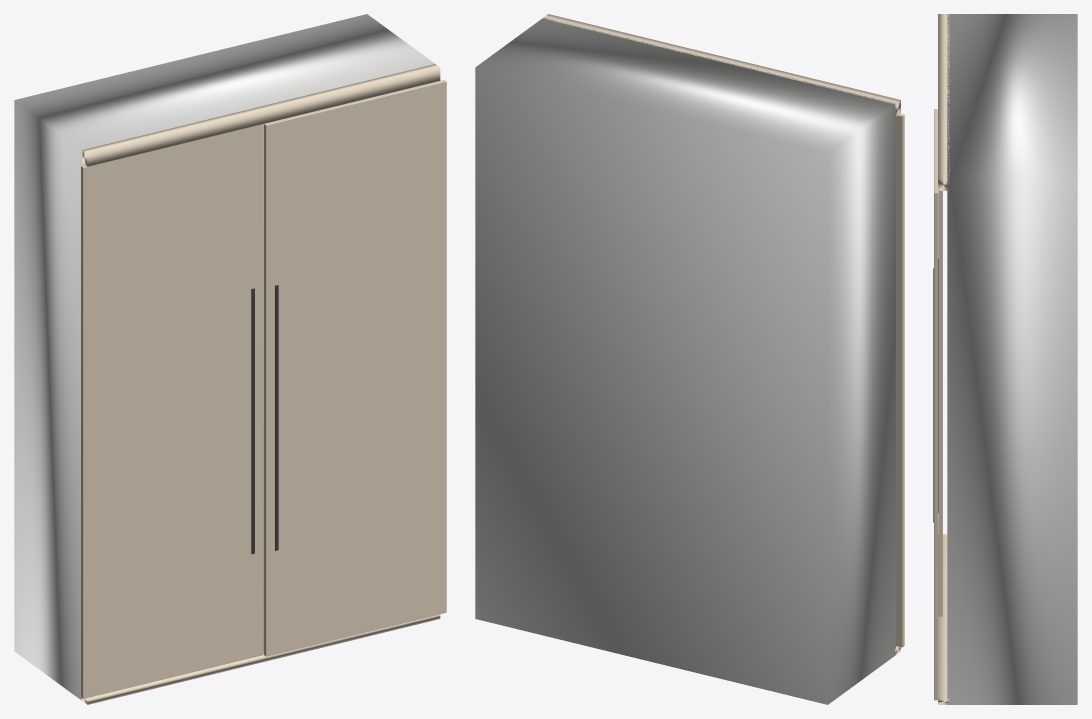
Rendered from wardrobe_sliding.glb.
3 renders of one model, left to right at view 1: azimuth 30°, elevation 25°; view 2: azimuth 150°, elevation 25°; view 3: azimuth 270°, elevation 25°, orthographic. The views are drawn at different scales.
Visible parts, largest first — view 1: door1, door0, carcass, rail-top, rail-bottom, grip0, grip1; view 2: carcass, door0, rail-top; view 3: carcass, door1, door0, rail-top, rail-bottom, grip0, grip1.
Boxes of the visible parts, bbox=[...] form: door1: bbox=[264, 80, 446, 656]; door0: bbox=[81, 124, 263, 698]; carcass: bbox=[14, 14, 434, 700]; rail-top: bbox=[82, 64, 440, 166]; rail-bottom: bbox=[81, 614, 440, 704]; grip0: bbox=[251, 288, 254, 554]; grip1: bbox=[275, 285, 278, 550]; carcass: bbox=[475, 18, 895, 704]; door0: bbox=[896, 113, 904, 647]; rail-top: bbox=[542, 14, 900, 116]; carcass: bbox=[947, 14, 1077, 704]; door1: bbox=[934, 109, 938, 700]; door0: bbox=[938, 191, 942, 616]; rail-top: bbox=[938, 14, 949, 190]; rail-bottom: bbox=[938, 534, 949, 704]; grip0: bbox=[938, 258, 938, 512]; grip1: bbox=[933, 268, 933, 522].
Bounding box in the file's own units: 1.71 × 2.49 × 0.621.
